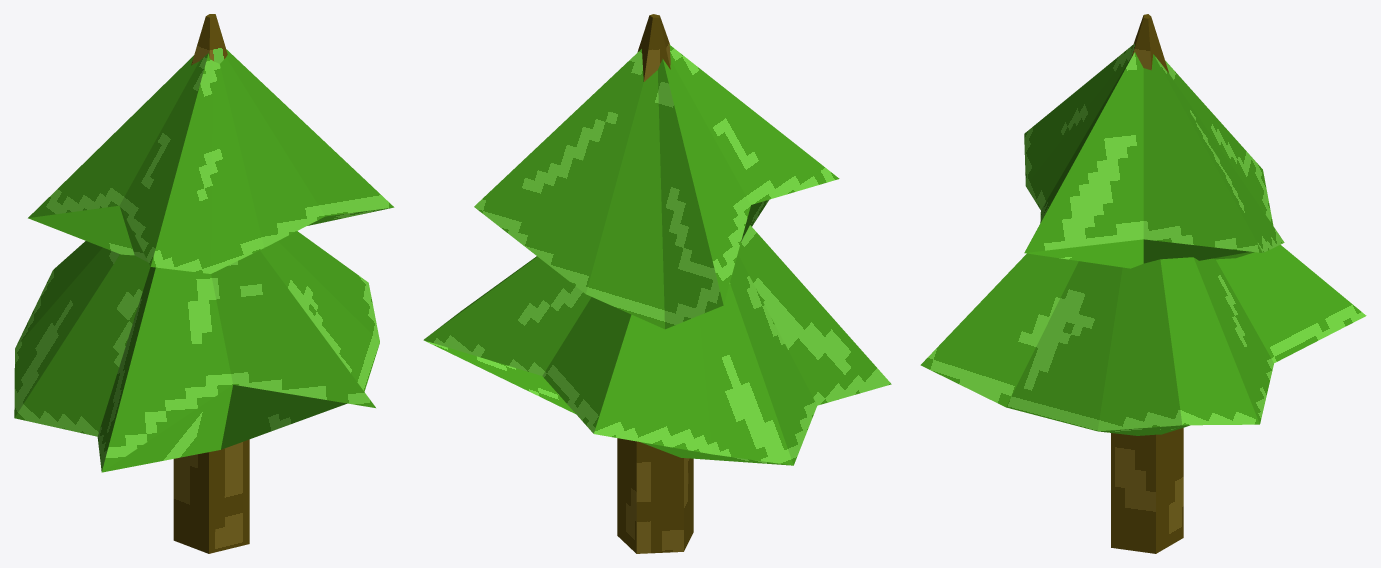
Rendered from derevo.gltf.
The picture shows the model from 3 angles, left to right: view 1: azimuth 30°, elevation 25°; view 2: azimuth 150°, elevation 25°; view 3: azimuth 270°, elevation 25°; orthographic projection.
Visible parts, largest first — view 1: pyramid (×2), cylinder; view 2: pyramid (×2), cylinder; view 3: pyramid (×2), cylinder.
Boxes of the visible parts, x1,y1,x2,y2 form: pyramid (×2): [14, 49, 394, 472]; cylinder: [173, 14, 249, 553]; pyramid (×2): [423, 45, 891, 465]; cylinder: [617, 14, 693, 553]; pyramid (×2): [920, 45, 1366, 435]; cylinder: [1111, 14, 1183, 553].
Bounding box in the file's own units: 2.31 × 3.31 × 2.57.
3 materials, 3 textured.
